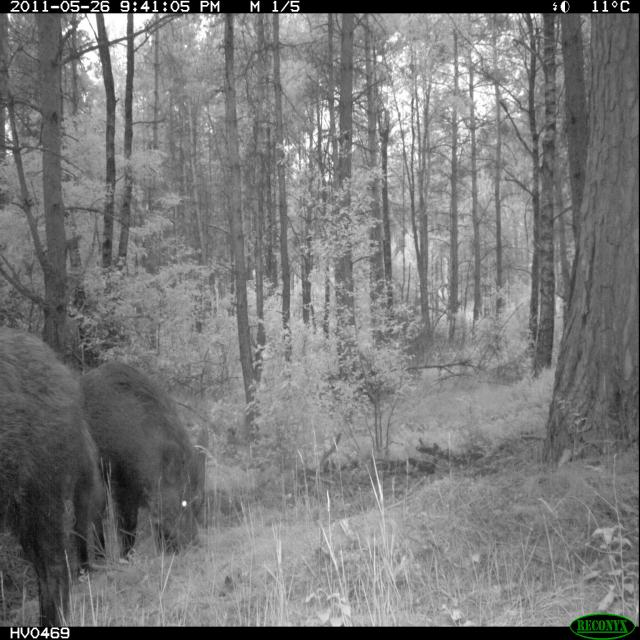boar: (11, 320, 240, 596), (0, 294, 106, 640)
